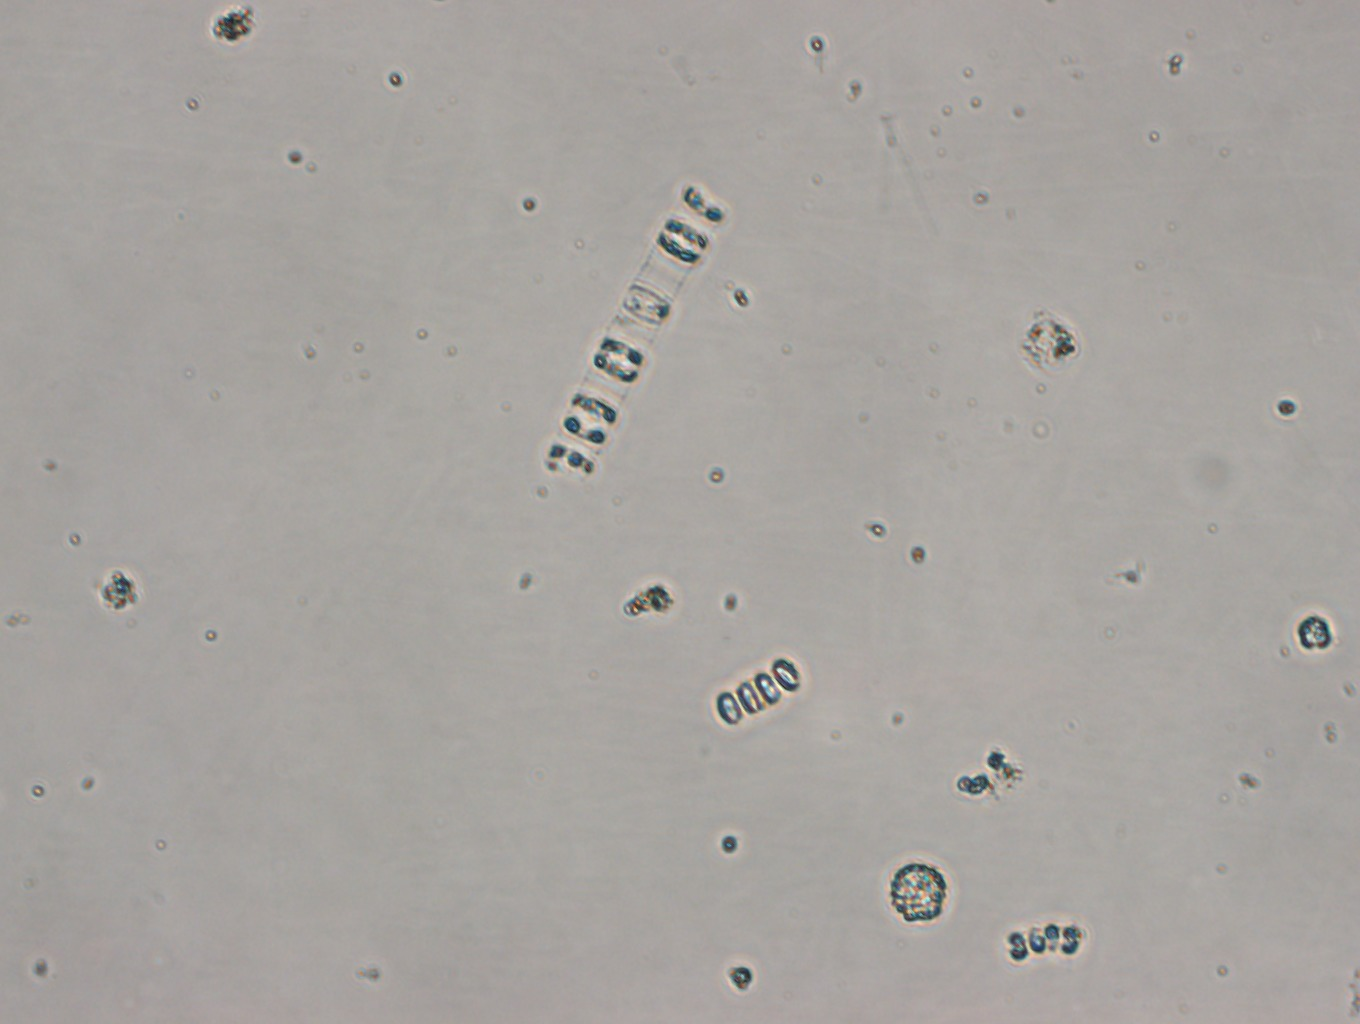skeletonema: (541, 176, 728, 489), (714, 654, 803, 726), (1005, 918, 1085, 963)
